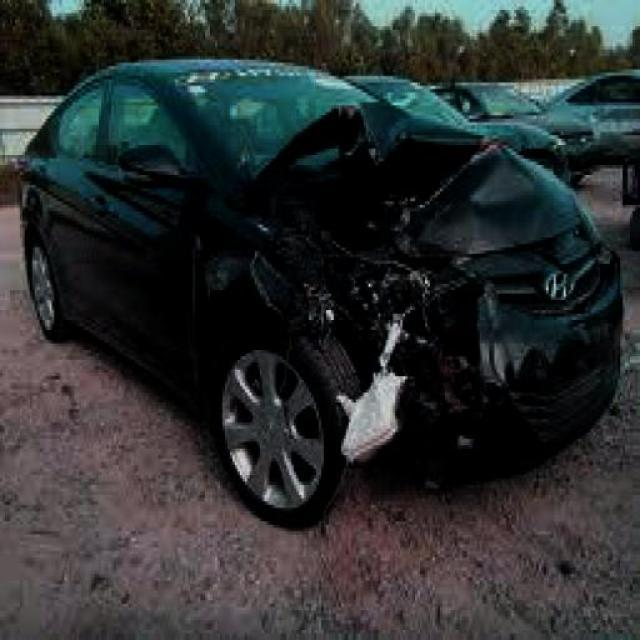Car-Damage: (201, 115, 624, 505)
